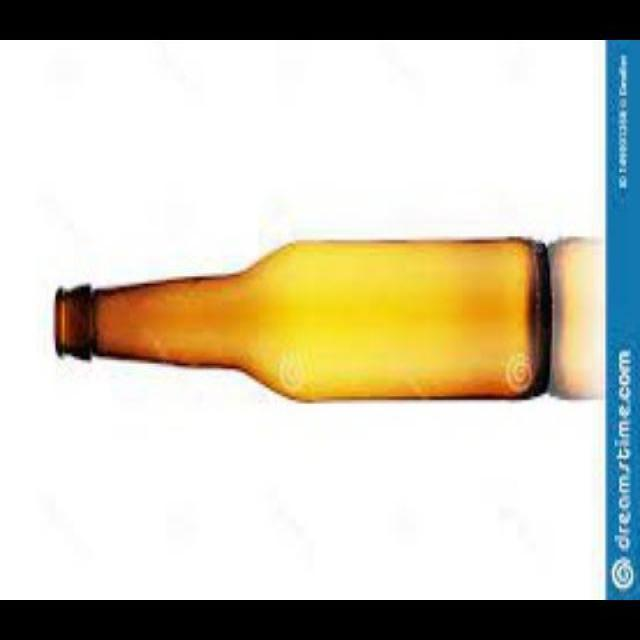Glass: (51, 234, 552, 406)
